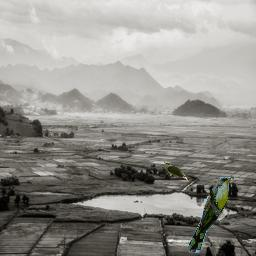Cuckoo: (188, 177, 235, 253), (163, 162, 191, 183)
